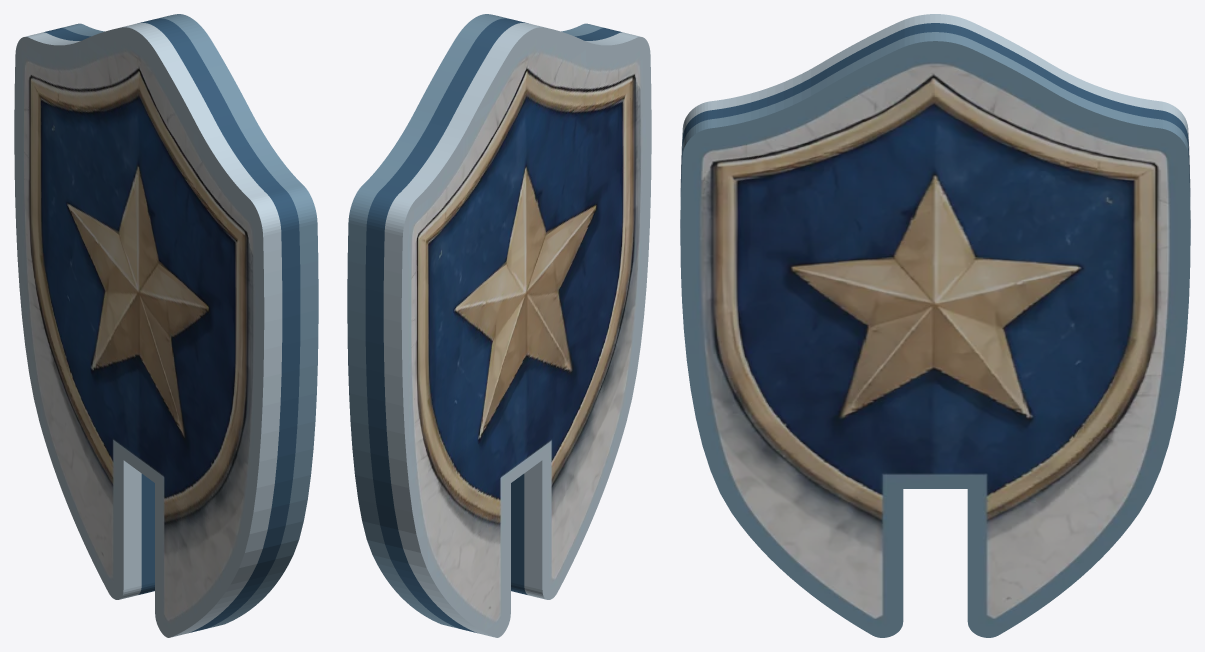
Rendered from extra-topper-02.glb.
3 views of the same model, side by side, from view 1: azimuth 30°, elevation 25°; view 2: azimuth 150°, elevation 25°; view 3: azimuth 270°, elevation 25° (orthographic). The views are drawn at different scales.
Visible parts, largest first — view 1: extra-topper-02; view 2: extra-topper-02; view 3: extra-topper-02.
Part boxes in pixels (x1=…): extra-topper-02: x1=14, y1=14, x2=318, y2=637; extra-topper-02: x1=347, y1=14, x2=651, y2=637; extra-topper-02: x1=680, y1=14, x2=1190, y2=637.
Size of the model in its own units: 27 by 277 by 215.
5 materials, 2 textured.
